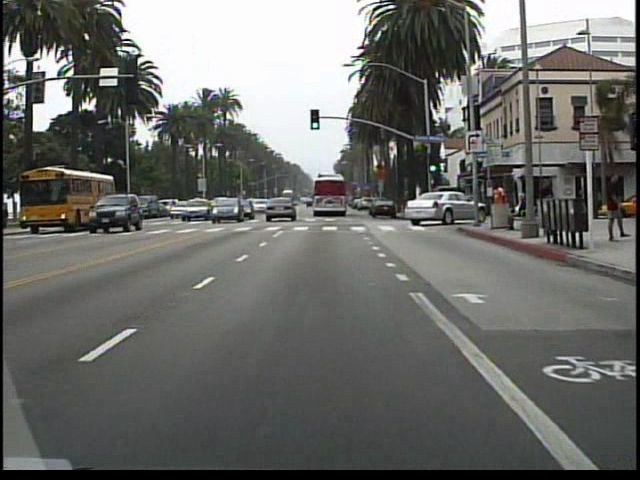person: (599, 169, 625, 245), (536, 177, 557, 230), (508, 187, 526, 234), (489, 180, 506, 229)
